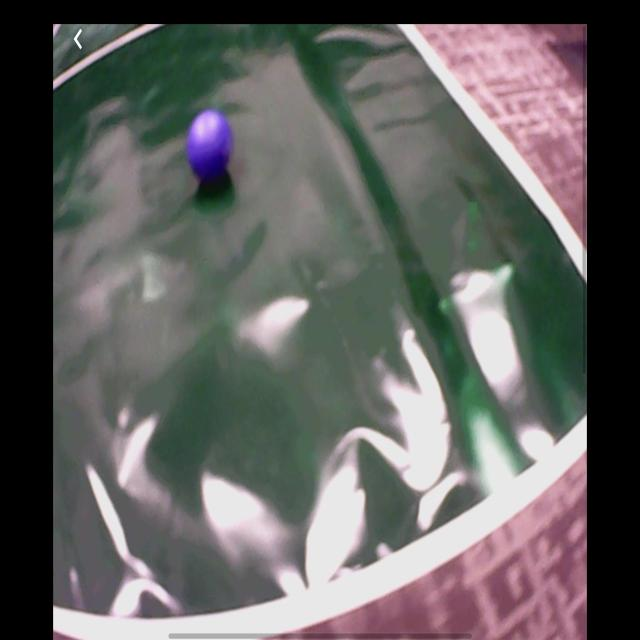ball: (188, 110, 234, 184)
